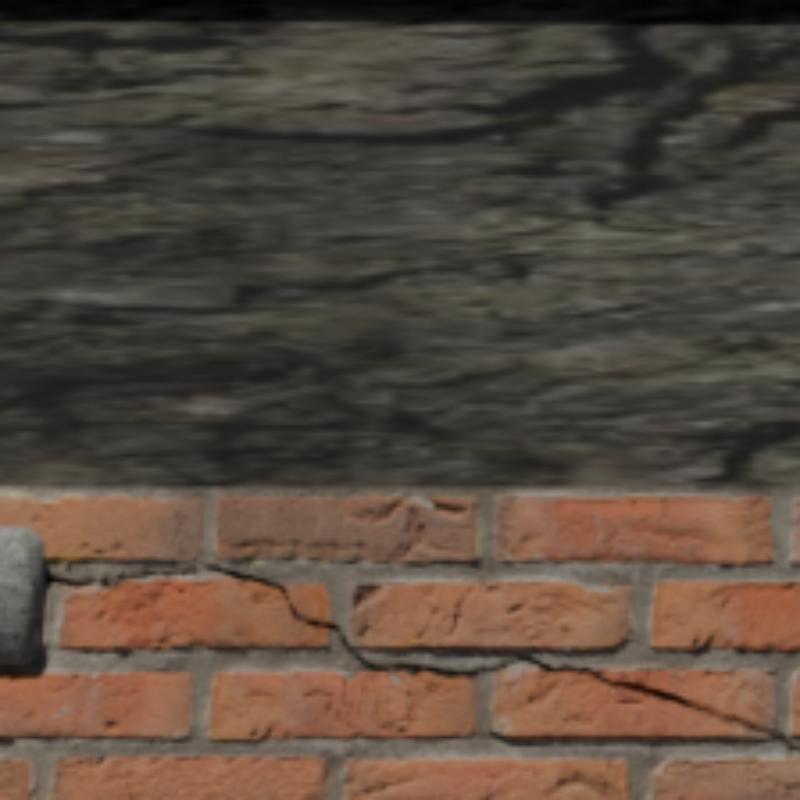crack: (289, 604, 796, 746), (46, 564, 282, 589)
